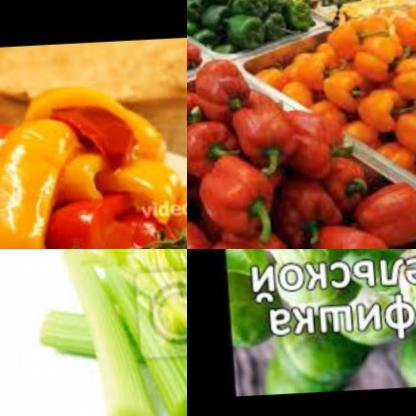bell pepper: (187, 49, 416, 249), (241, 6, 416, 230), (0, 92, 187, 249), (187, 0, 322, 49)
brus capusta: (206, 296, 354, 393), (331, 249, 410, 357), (219, 257, 278, 359), (236, 249, 337, 275)
celery: (52, 249, 161, 416), (84, 249, 187, 416), (18, 289, 187, 376)
